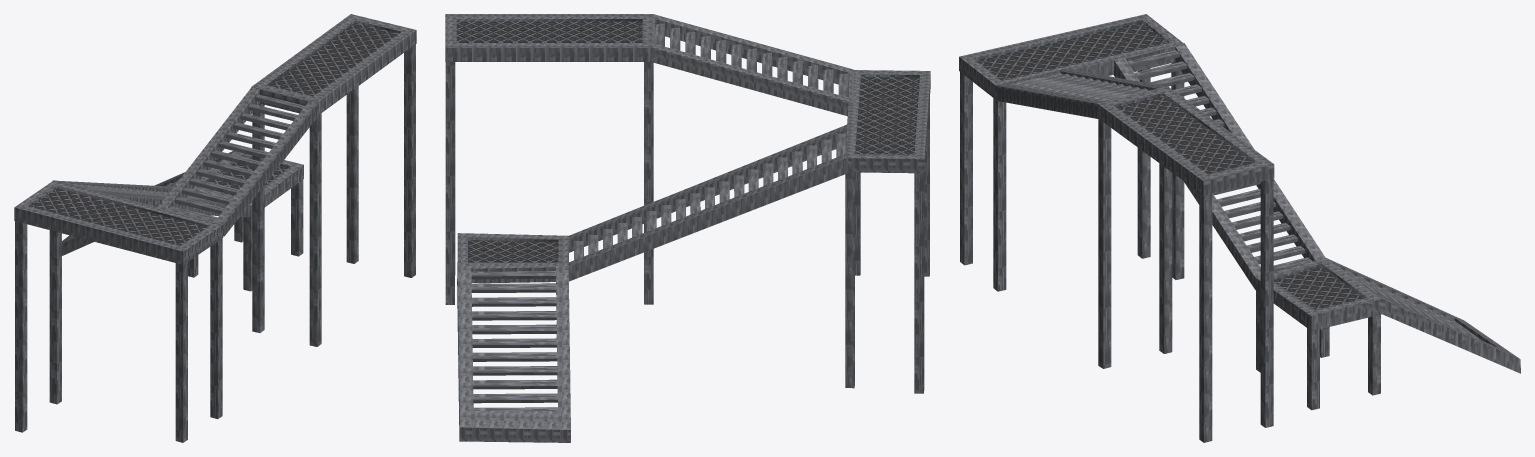
File: StairsRampLvl2.fbx
The picture shows the model from 3 angles, left to right: view 1: azimuth 30°, elevation 25°; view 2: azimuth 150°, elevation 25°; view 3: azimuth 270°, elevation 25°; orthographic projection. The views are drawn at different scales.
Parts seen in each view (by area): view 1: Cube.225, steps.009, steps.008; view 2: Cube.225, steps.005, steps.008, steps.009; view 3: Cube.225, steps.008, steps.009, steps.005.
Boxes of the visible parts, <box> form: Cube.225: <box>14,14,416,442</box>; steps.009: <box>168,95,304,220</box>; steps.008: <box>67,183,212,201</box>; Cube.225: <box>445,14,930,442</box>; steps.005: <box>471,271,557,411</box>; steps.008: <box>573,132,845,260</box>; steps.009: <box>655,23,848,97</box>; Cube.225: <box>959,14,1520,442</box>; steps.008: <box>1127,50,1312,271</box>; steps.009: <box>1010,72,1151,101</box>; steps.005: <box>1338,266,1482,340</box>.
Bounding box in the file's own units: 3385 × 2083 × 3586.
